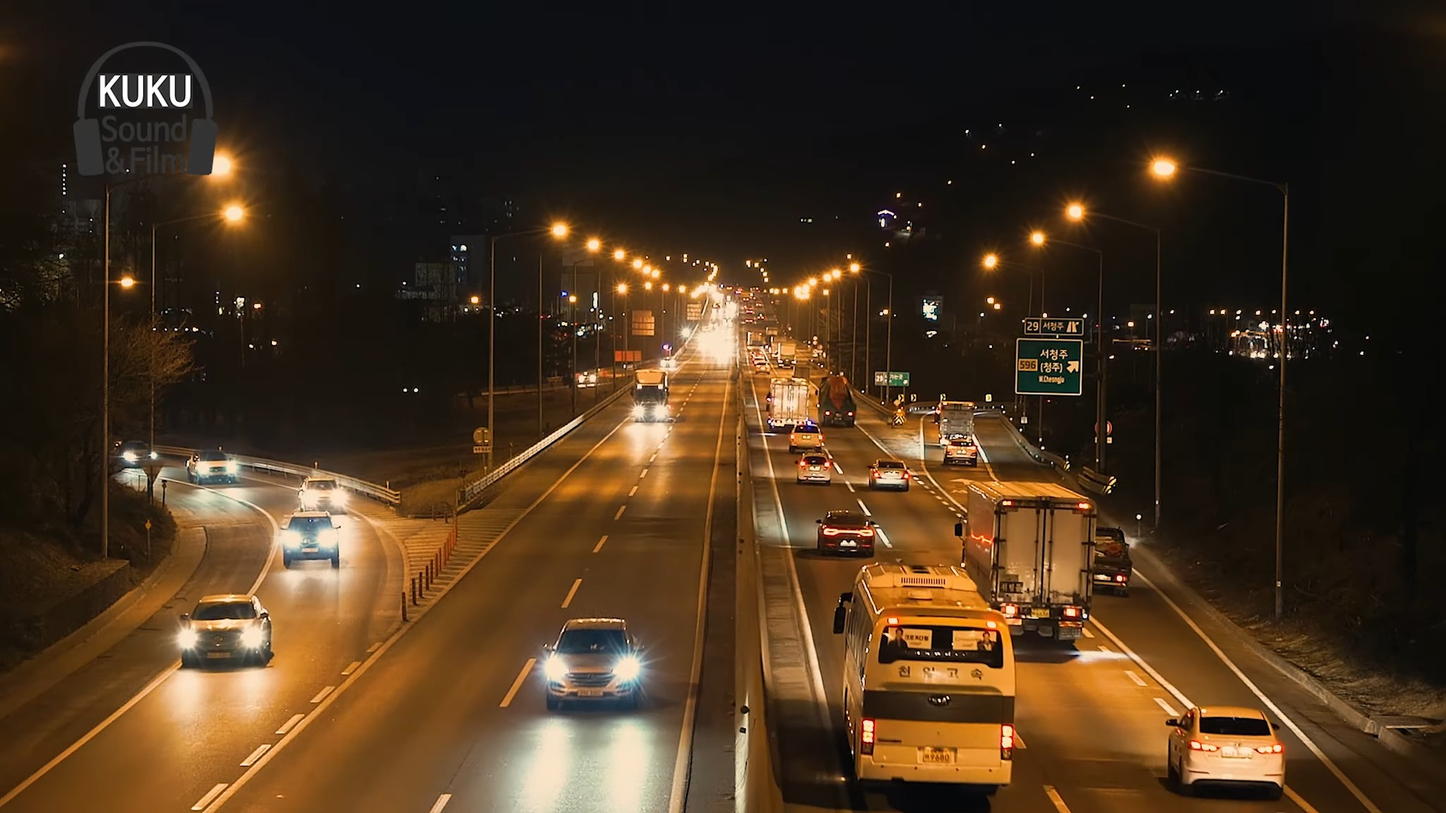car: (833, 561, 1028, 789), (1171, 704, 1289, 793), (544, 611, 643, 713), (177, 593, 274, 672), (283, 514, 342, 574), (816, 512, 884, 562), (297, 475, 348, 509), (189, 447, 236, 480)
truck: (957, 475, 1100, 651)
